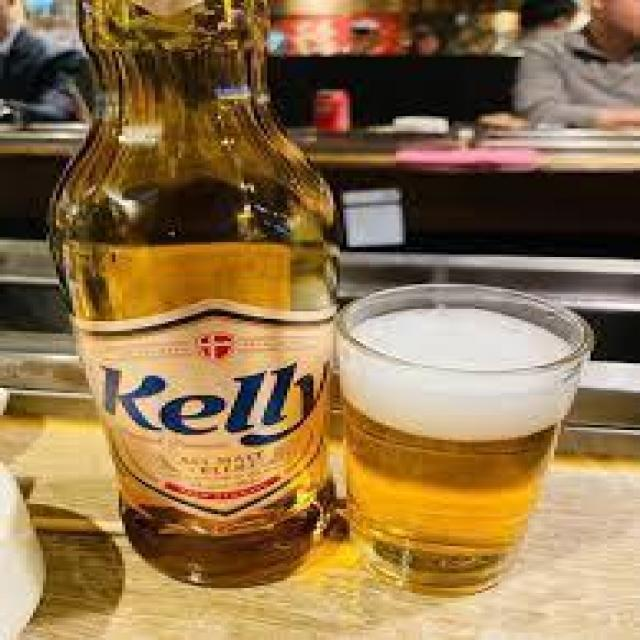beer-bottle: (51, 0, 345, 583)
